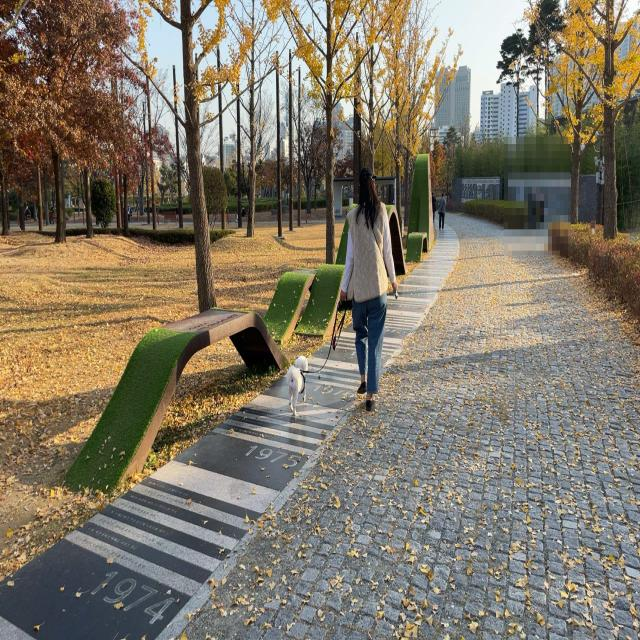Leashed_Dog: (287, 287, 363, 419)
